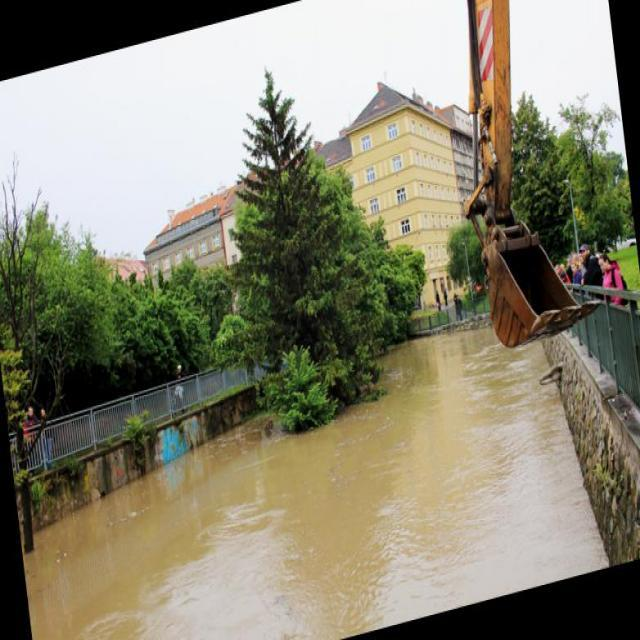flood: (11, 311, 601, 639)
